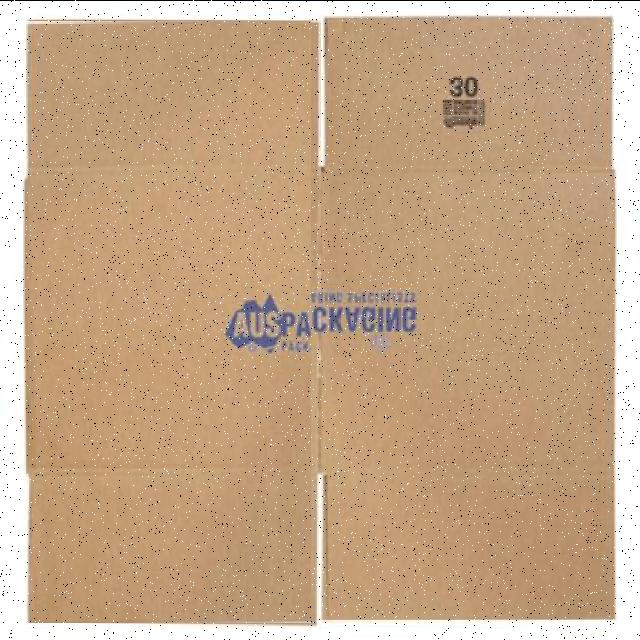normal: (23, 20, 311, 622)
